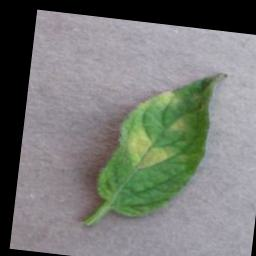Leaf_Mold: (121, 125, 175, 172), (138, 85, 182, 113), (169, 115, 186, 134)
